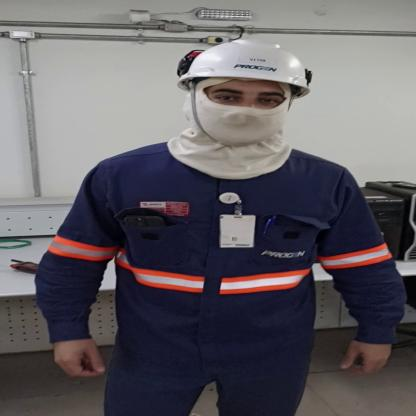Balaclava: (167, 79, 300, 176)
Capacete: (170, 39, 330, 92)
